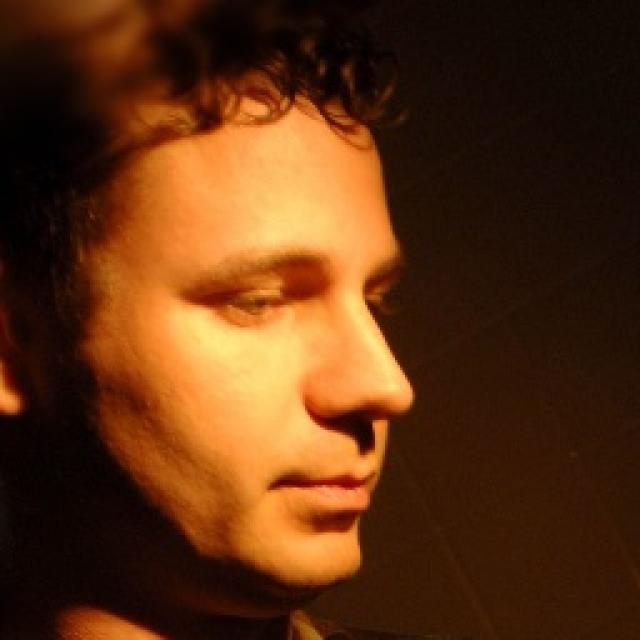no-glasses: (200, 260, 410, 344)
